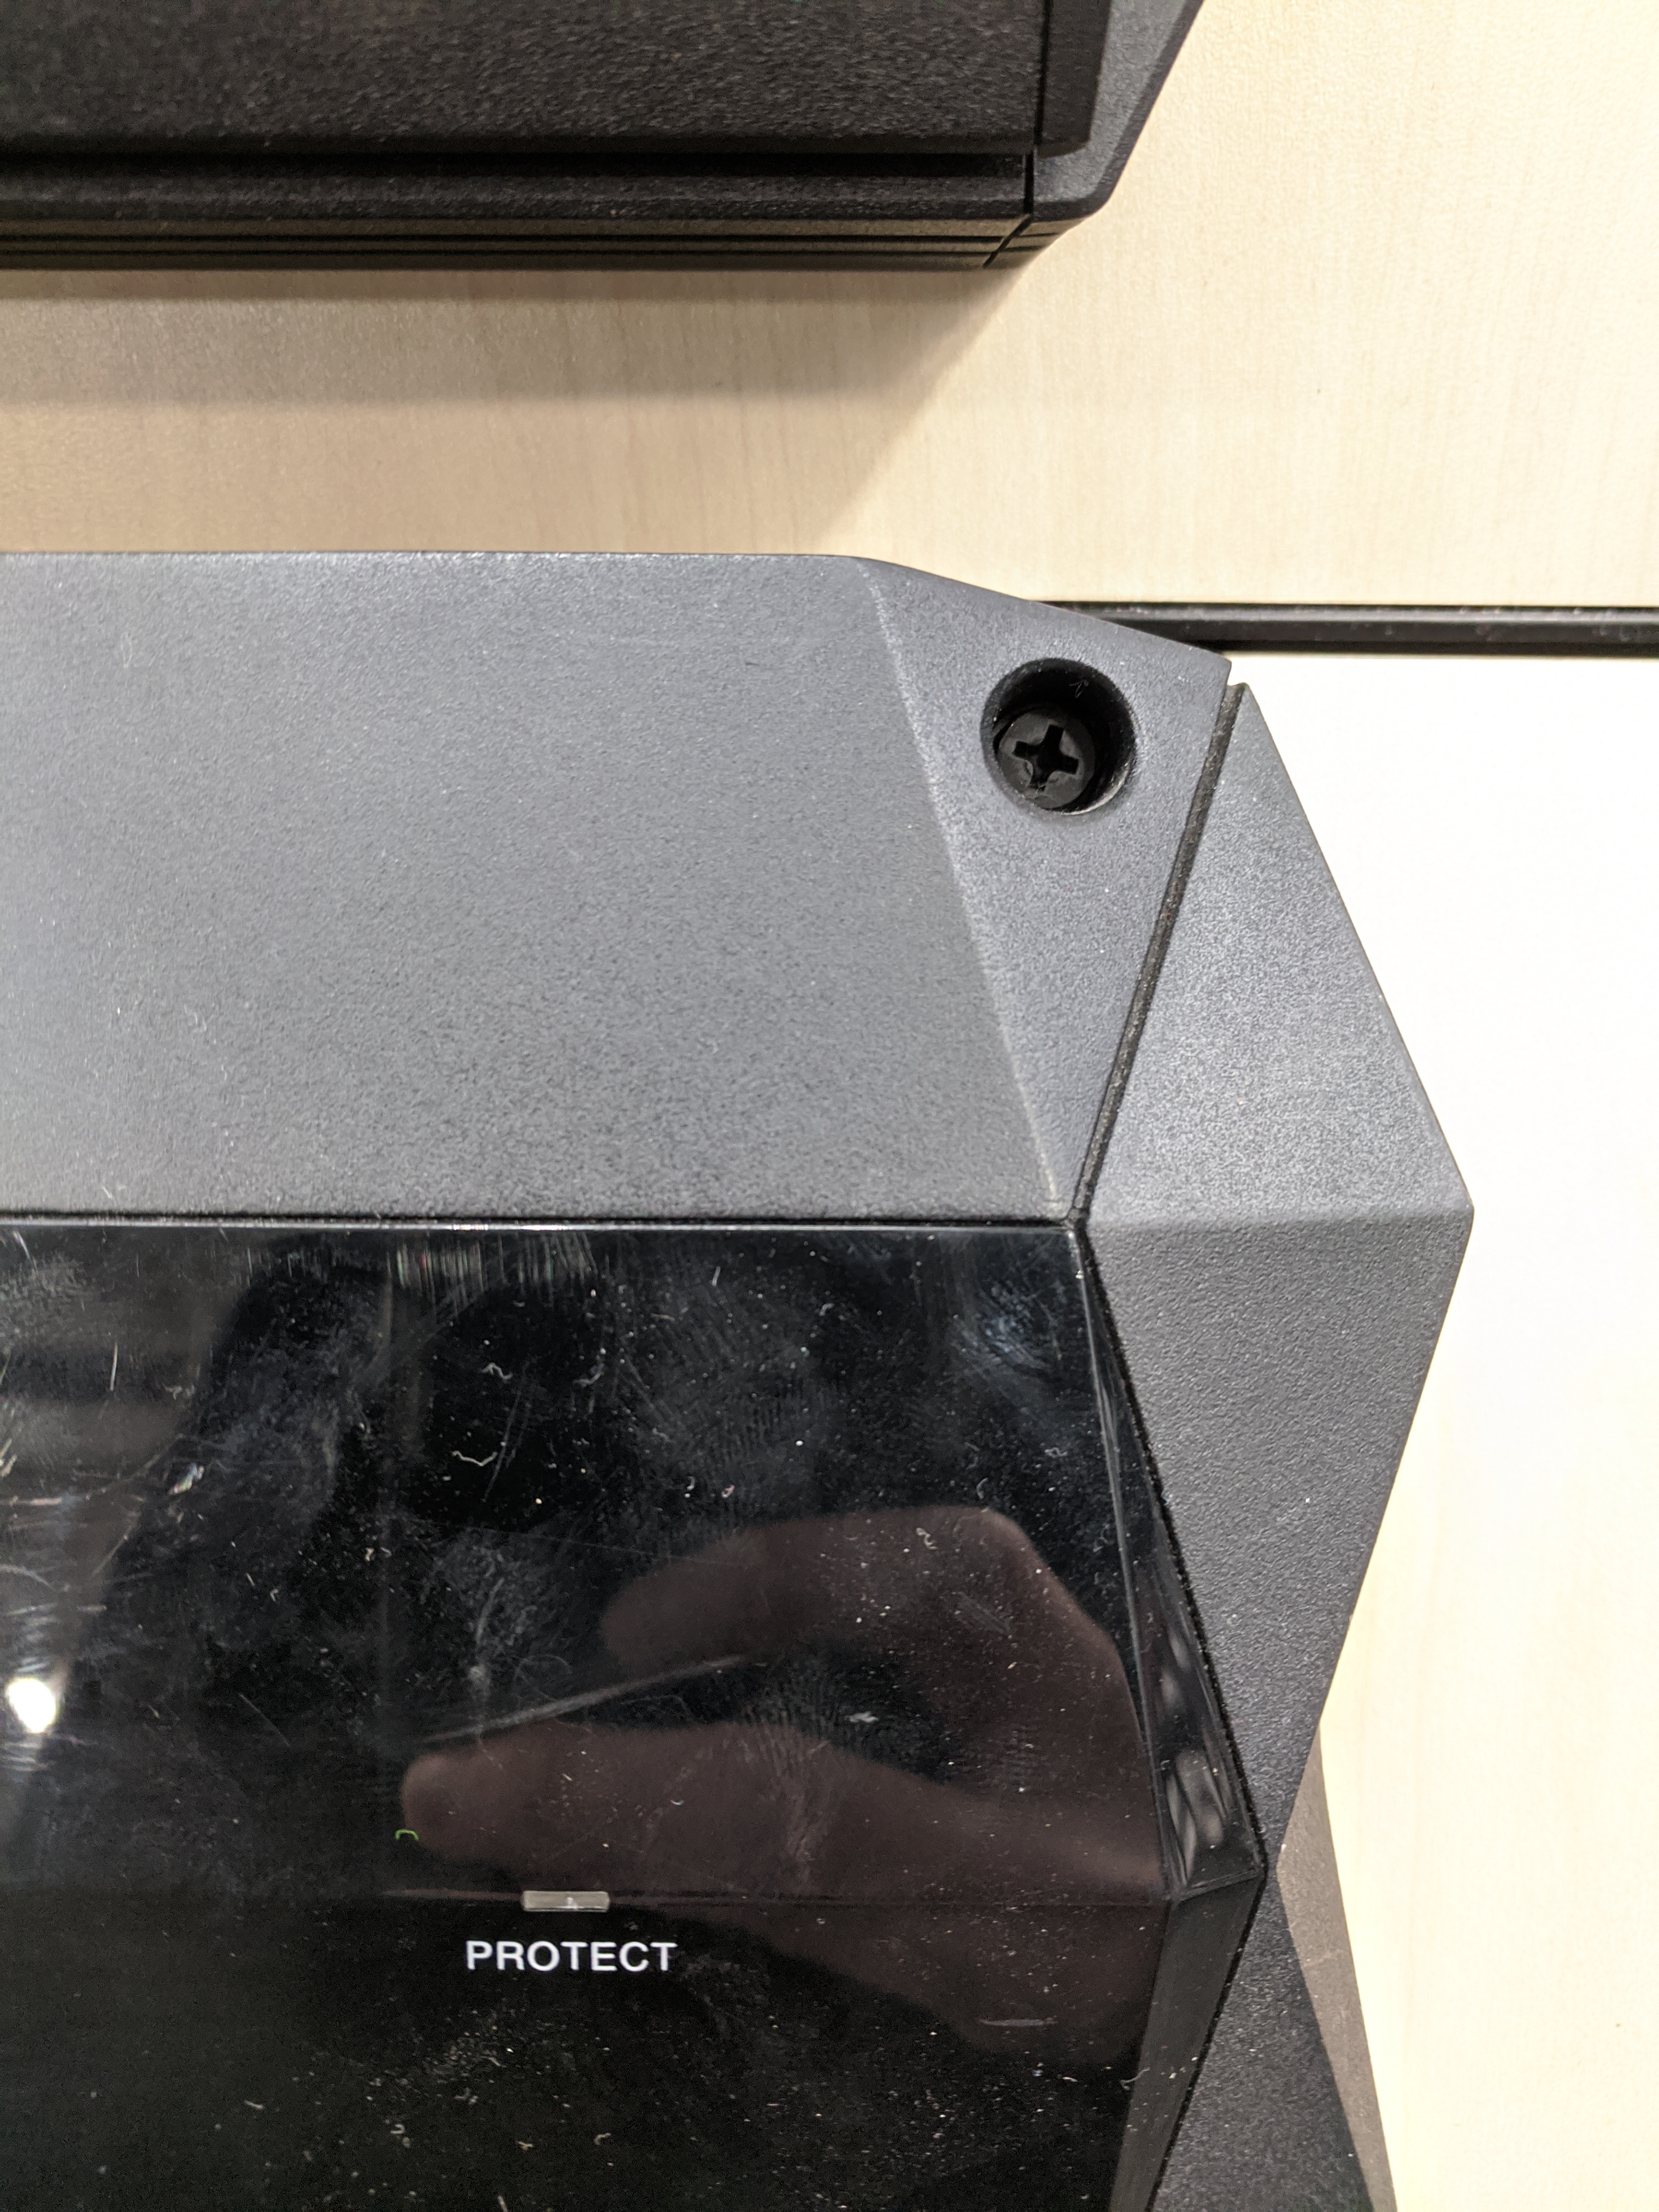cross_recessed_screw: (990, 667, 1131, 820)
